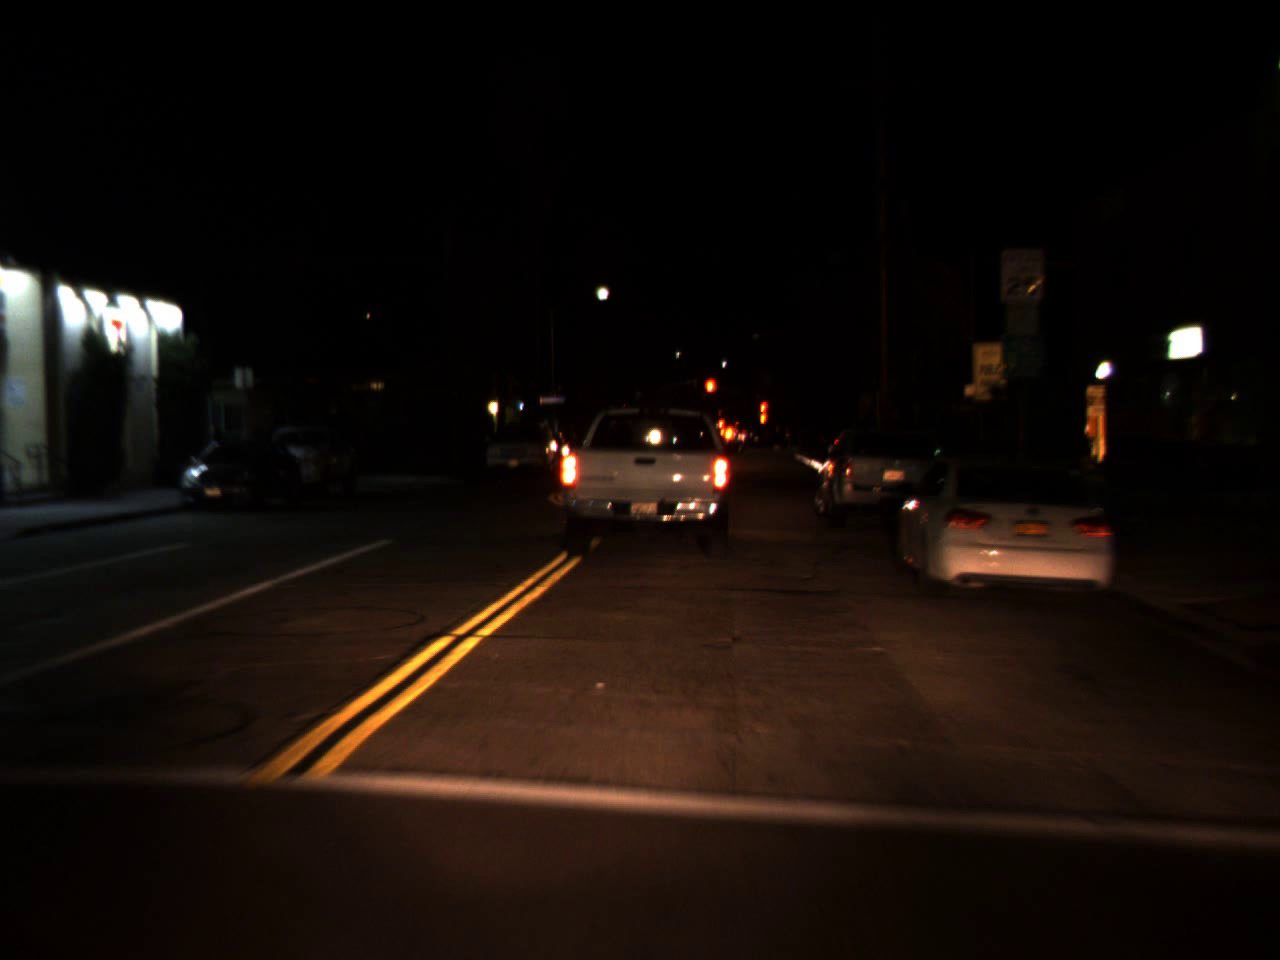stop: (703, 377, 716, 409), (758, 400, 768, 418)
